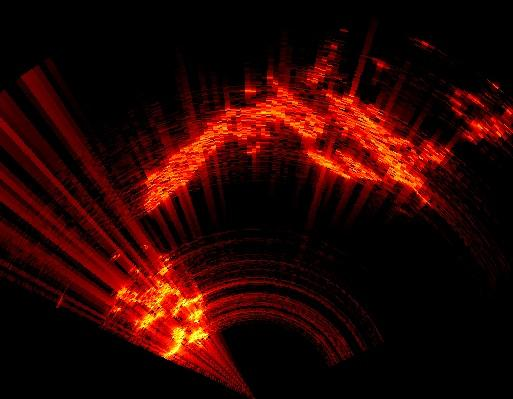shipwreck: (145, 81, 450, 209), (137, 285, 202, 328), (162, 324, 208, 359)
